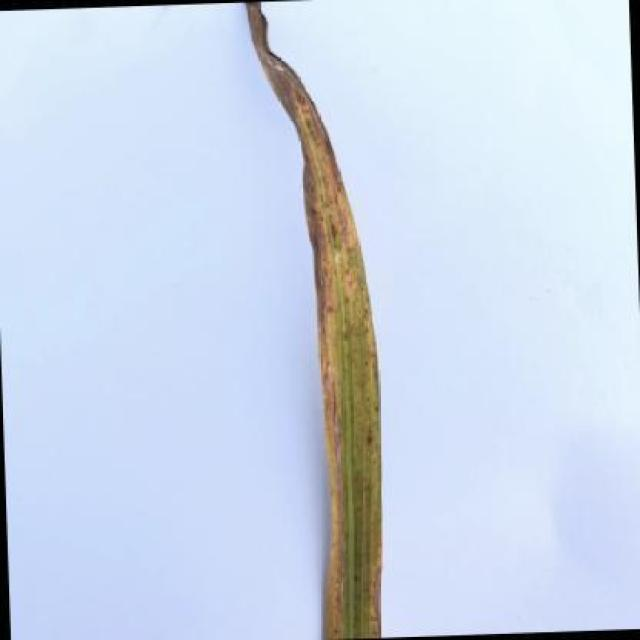Rice False Smut: (248, 9, 389, 640)
